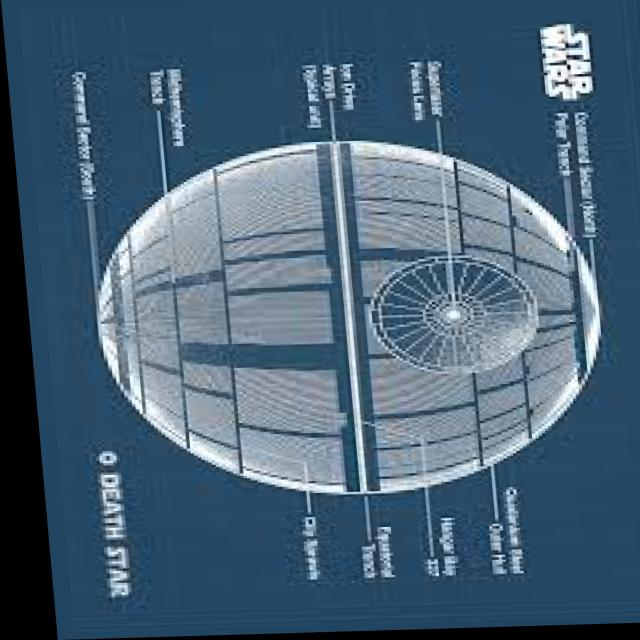deathStar: (70, 135, 609, 503)
